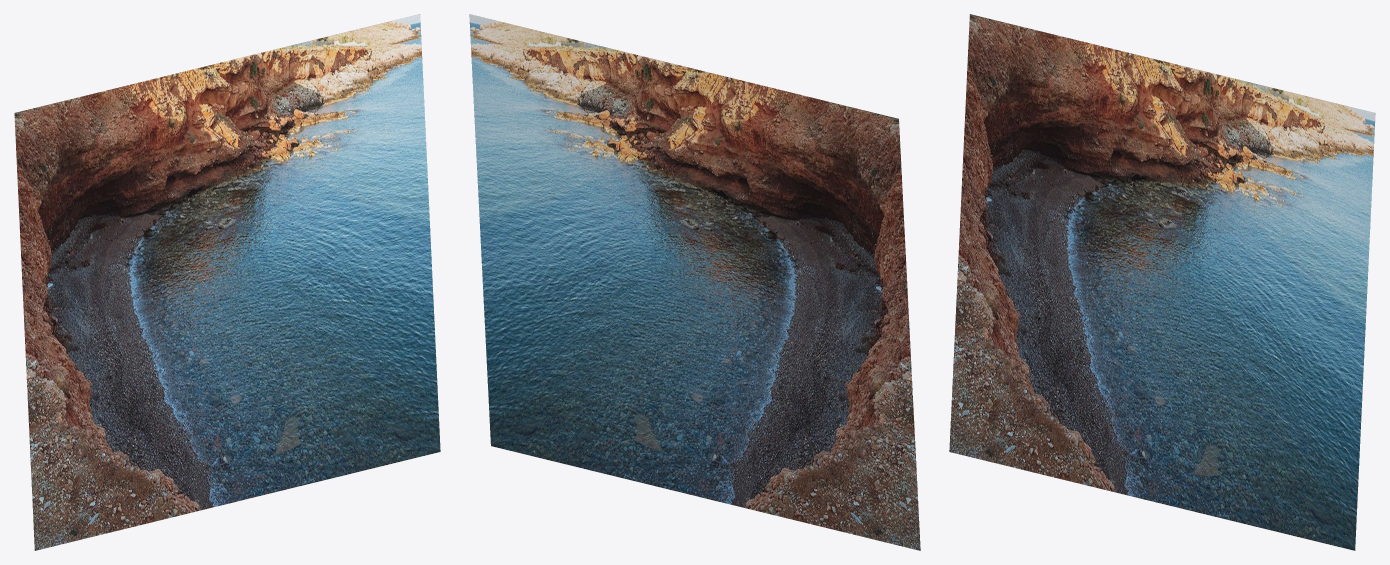
Rendered from entity.gltf.
The picture shows the model from 3 angles, left to right: view 1: azimuth 30°, elevation 25°; view 2: azimuth 150°, elevation 25°; view 3: azimuth 330°, elevation 25°; orthographic projection. The views are drawn at different scales.
Parts seen in each view (by area): view 1: Mesh_0; view 2: Mesh_0; view 3: Mesh_0.
Boxes of the visible parts, x1,y1,x2,y2 form: Mesh_0: (14,14,440,550); Mesh_0: (469,14,920,550); Mesh_0: (949,14,1375,550).
Size of the model in its own units: 1.4 by 1.39 by 0.1219.
Materials: 1 (1 with a texture image).
